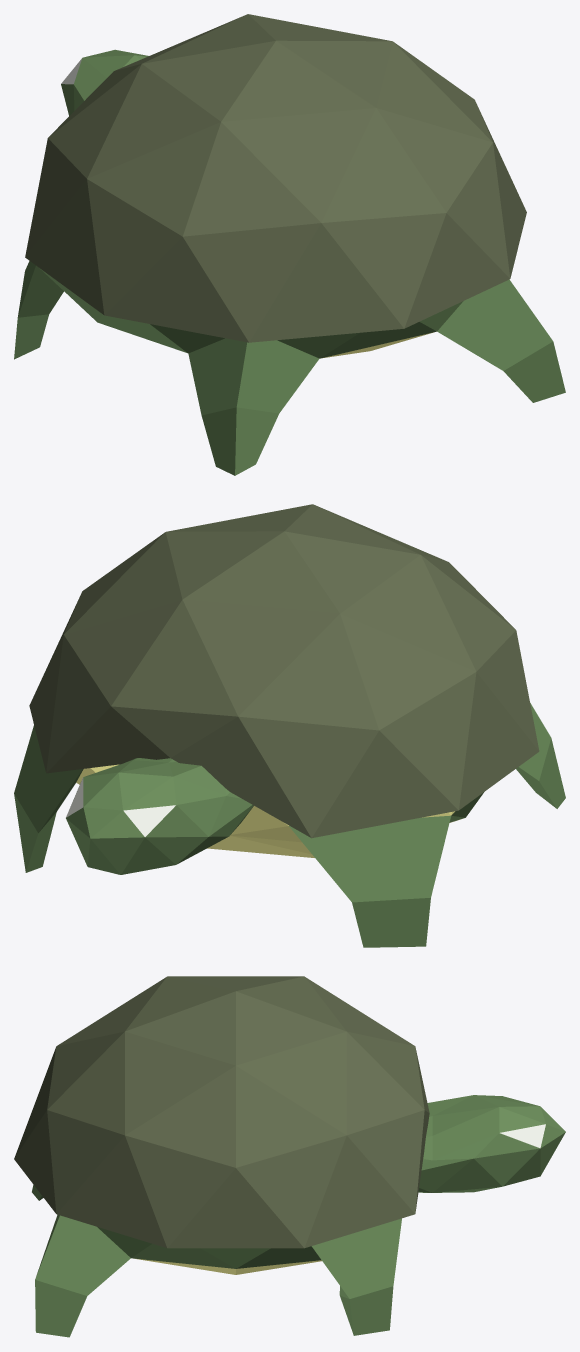
The model's file is turtle.glb.
3 renders of one model, top to bottom at view 1: azimuth 30°, elevation 25°; view 2: azimuth 150°, elevation 25°; view 3: azimuth 270°, elevation 25°, orthographic. The views are drawn at different scales.
Parts seen in each view (by area): view 1: Icosphere.001, Icosphere, Icosphere.002; view 2: Icosphere.001, Icosphere, Icosphere.002; view 3: Icosphere.001, Icosphere, Icosphere.002.
Boxes of the visible parts, left/top/right/bottom form: Icosphere.001: left=25, top=14, right=526, bottom=342; Icosphere: left=14, top=261, right=565, bottom=475; Icosphere.002: left=61, top=49, right=148, bottom=115; Icosphere.001: left=29, top=504, right=539, bottom=838; Icosphere: left=14, top=702, right=565, bottom=947; Icosphere.002: left=66, top=758, right=253, bottom=874; Icosphere.001: left=14, top=976, right=429, bottom=1248; Icosphere: left=32, top=1185, right=401, bottom=1337; Icosphere.002: left=418, top=1095, right=565, bottom=1192.
Bounding box in the file's own units: 2.01 × 1.44 × 2.63.
Materials: 3 (3 with a texture image).
